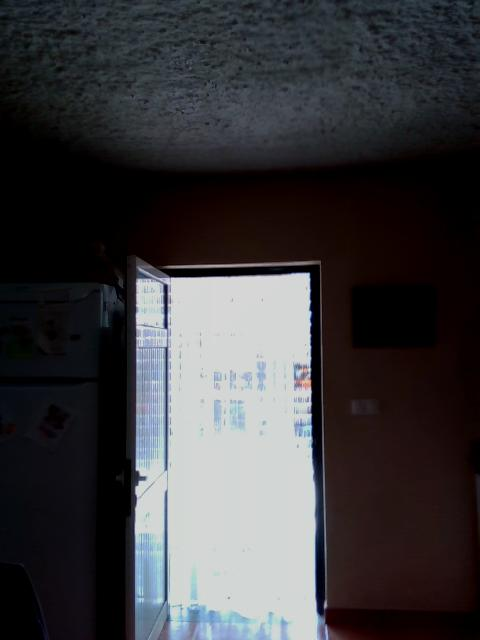open_door: (137, 258, 323, 624)
